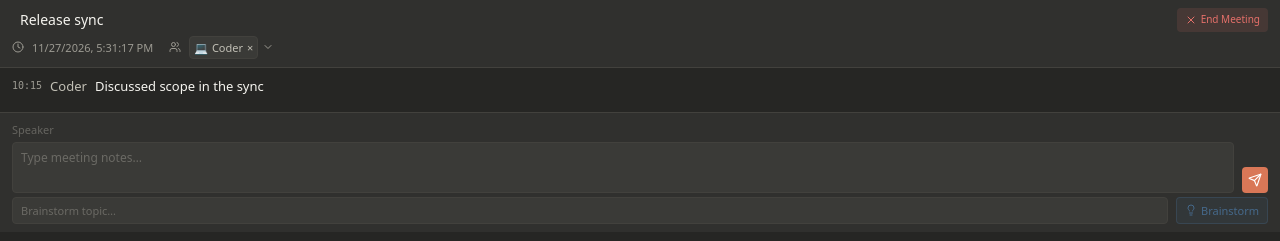
Scenario: MeetingPanel persistence › ends the meeting through the API and renders the returned summary and created tasks
Click the button "End Meeting" at (1222, 20), box [1177,8,1268,32]
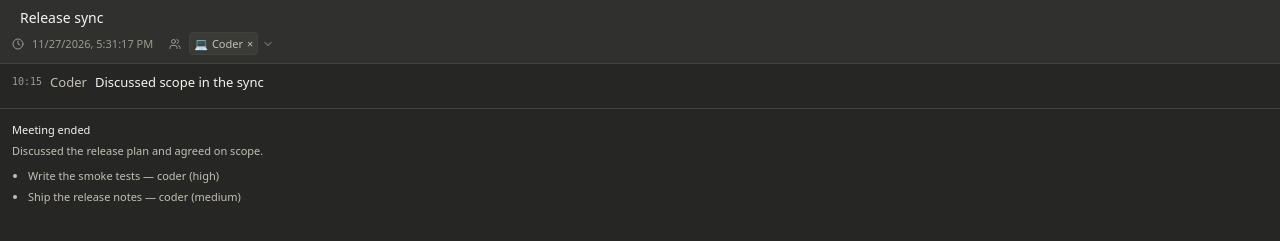
expect the text "Discussed the release plan and agreed on scope." is shown: met, box [12,143,263,158]
expect the text "Write the smoke tests" is shown: met, box [28,168,140,183]
expect the text "Ship the release notes" is shown: met, box [28,189,142,204]
